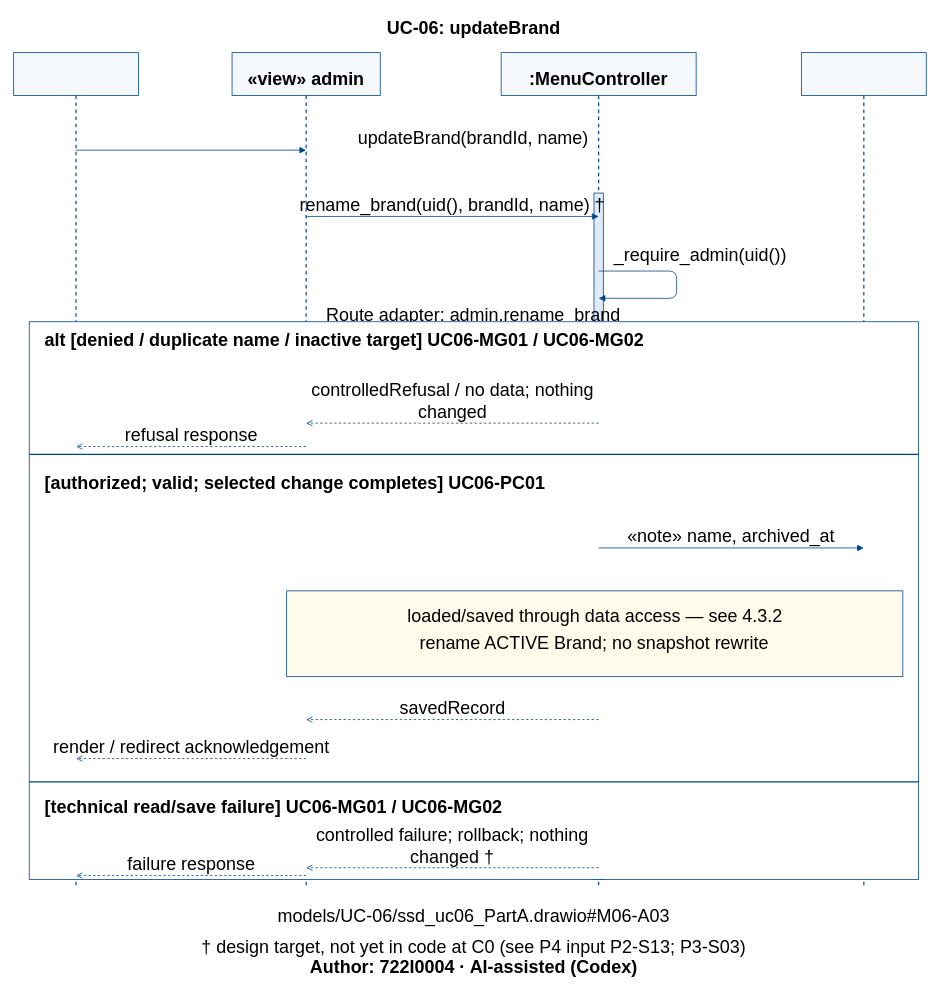
Some shapes in this 940 by 991 pixel diagram are drawn without their labels. The centre of each missing label's shape, as x and y in pixels:
:Brand: point (863, 74)
Admin: point (75, 74)
